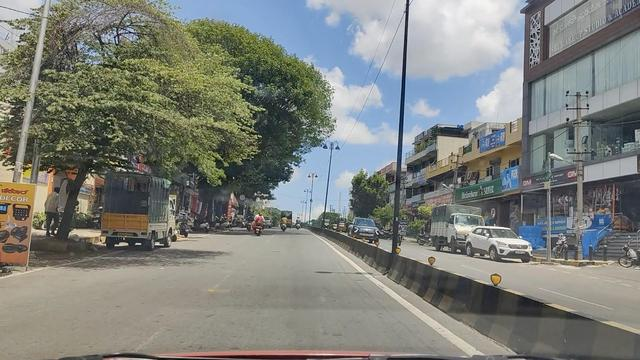HMV: (101, 169, 173, 249)
